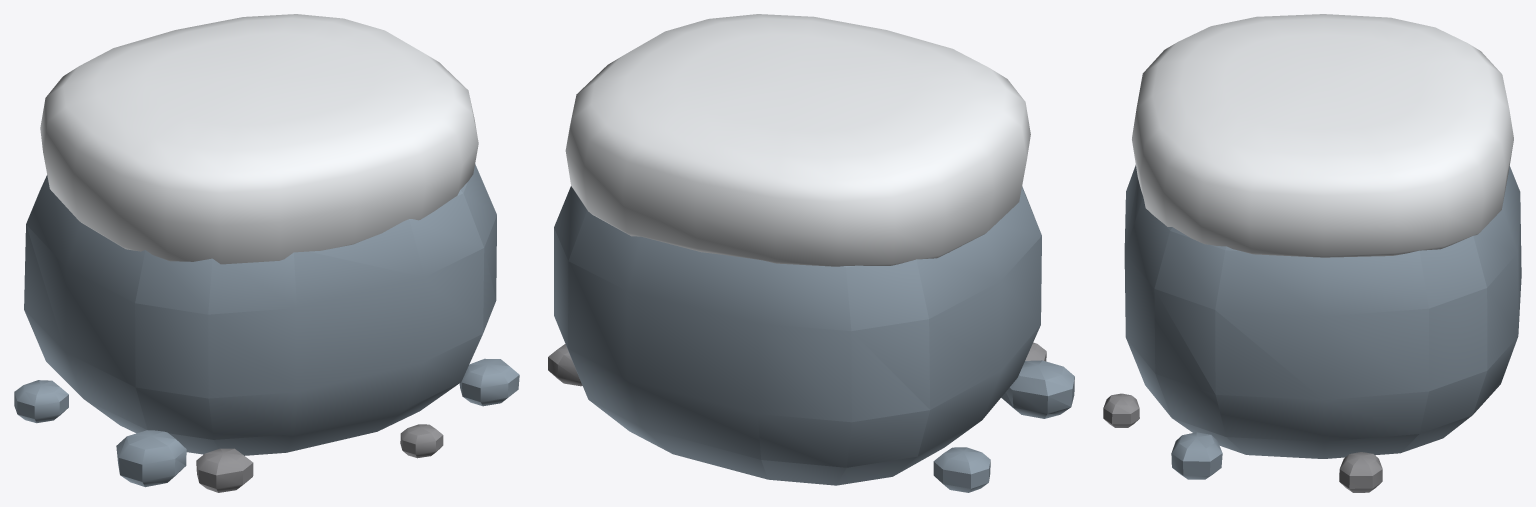
File: SnowyBoulder.obj
3 renders of one model, left to right at view 1: azimuth 30°, elevation 25°; view 2: azimuth 150°, elevation 25°; view 3: azimuth 270°, elevation 25°, orthographic. The views are drawn at different scales.
Parts seen in each view (by area): view 1: SnowyBoulder; view 2: SnowyBoulder; view 3: SnowyBoulder.
Part boxes in pixels (x1,y1,x2,y2): SnowyBoulder: (14,14,519,492); SnowyBoulder: (548,14,1074,492); SnowyBoulder: (1103,14,1521,492).
Size of the model in its own units: 6.5 by 4.65 by 5.59.
1 material, 1 textured.
